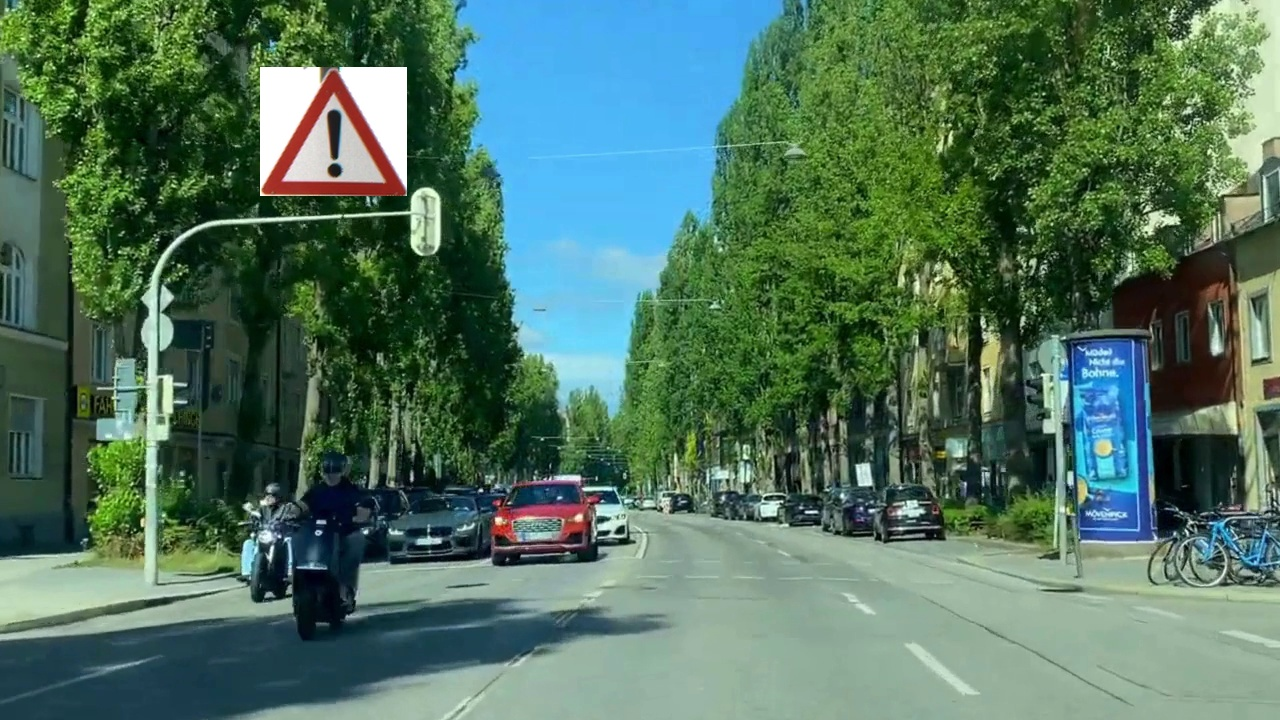Caution: (260, 67, 407, 196)
